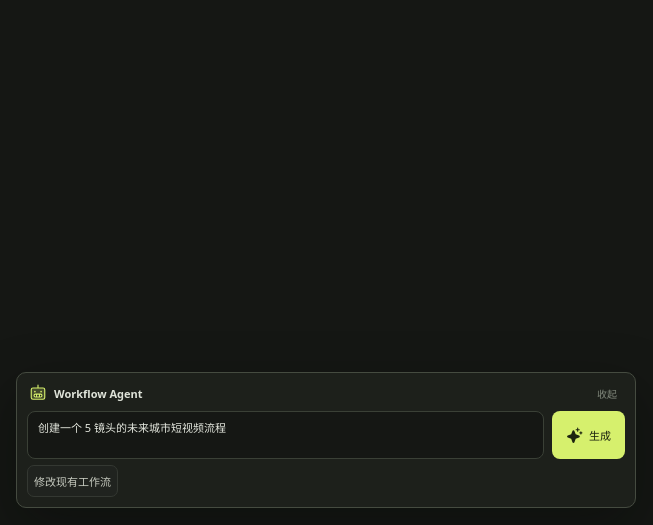
AgentComposer › shows version conflict error message on 409
Generate + Apply
Click the button "生成".
click(588, 435)  # box [552,411,625,459]
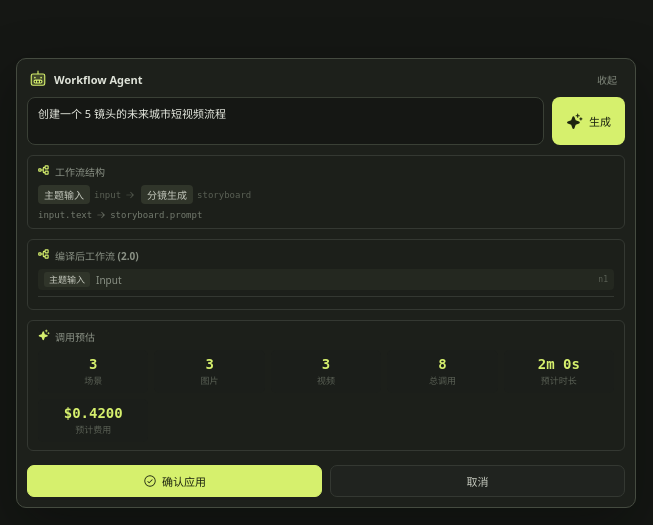
Now the button "确认应用" is shown
Click the button "确认应用".
click(174, 481)  # box [27,465,322,497]
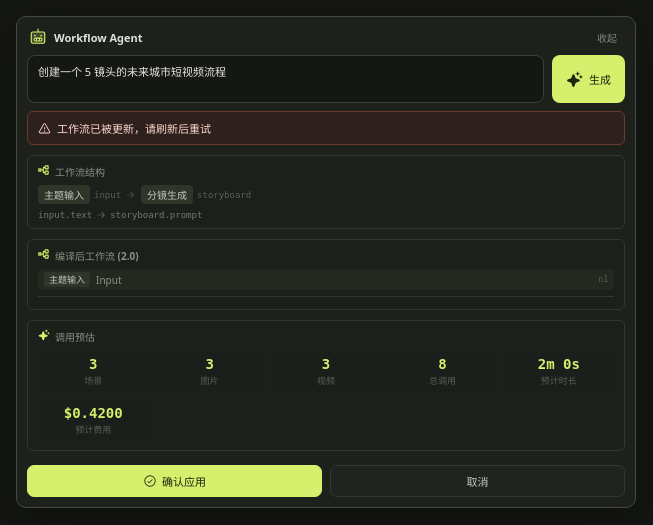
Now the text "工作流已被更新，请刷新后重试" is shown, box [27,111,625,145]
